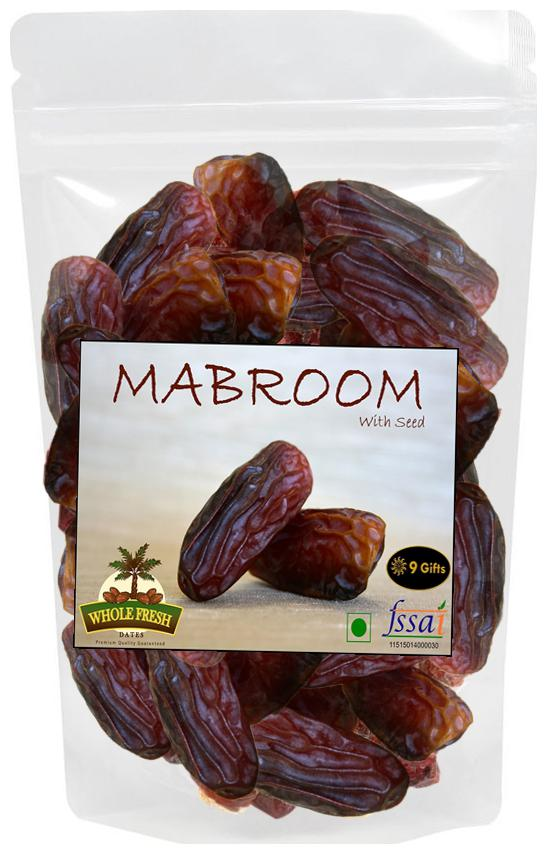fssai: (382, 598, 449, 639)
